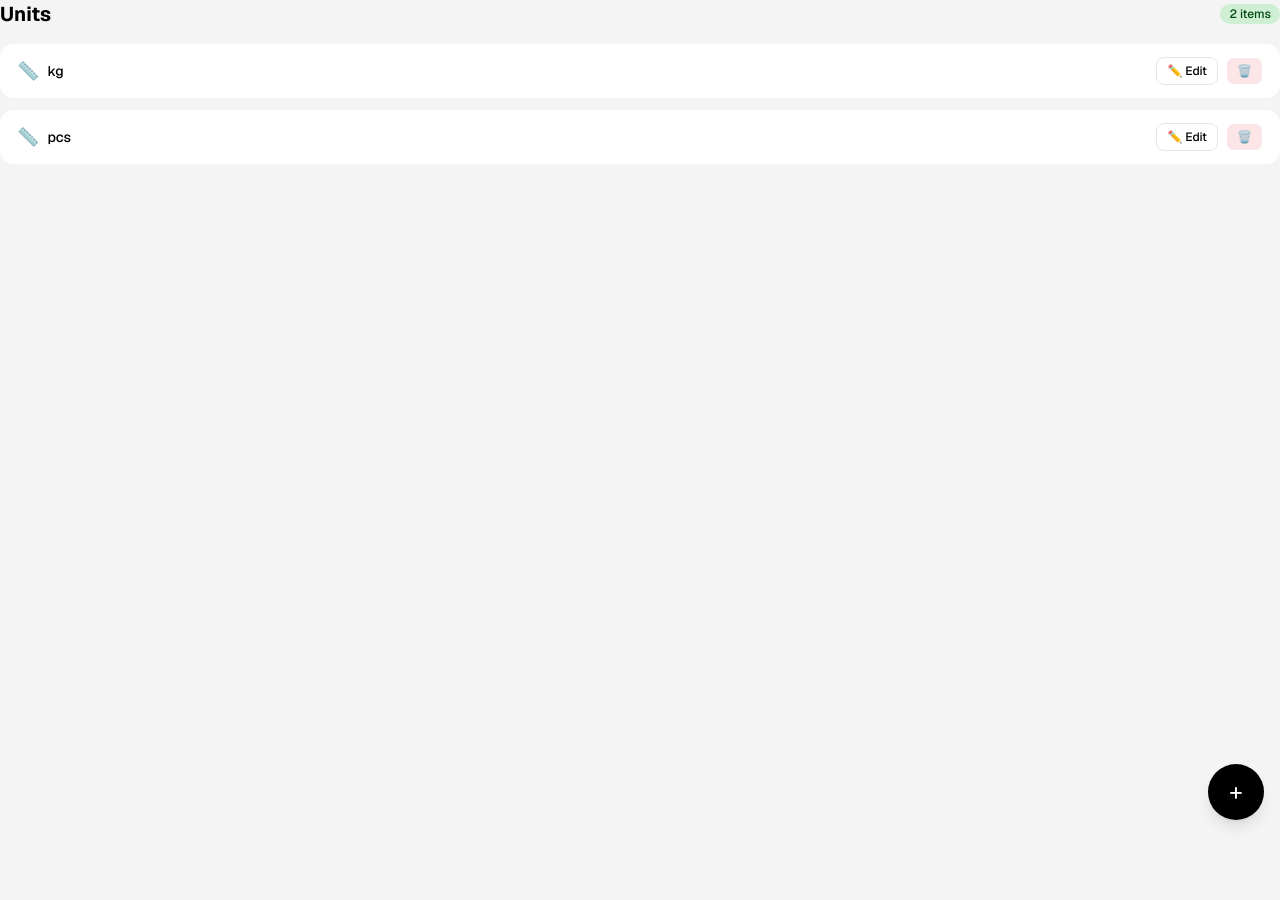
Test: UnitsClient CRUD Operations › Update Operation › opens edit dialog with unit data
This screenshot has width=1280, height=900.
Click the button "✏️ Edit" in the row of "kg" at coordinates (1187, 71), box top-left (1156, 57), bottom-right (1218, 85)
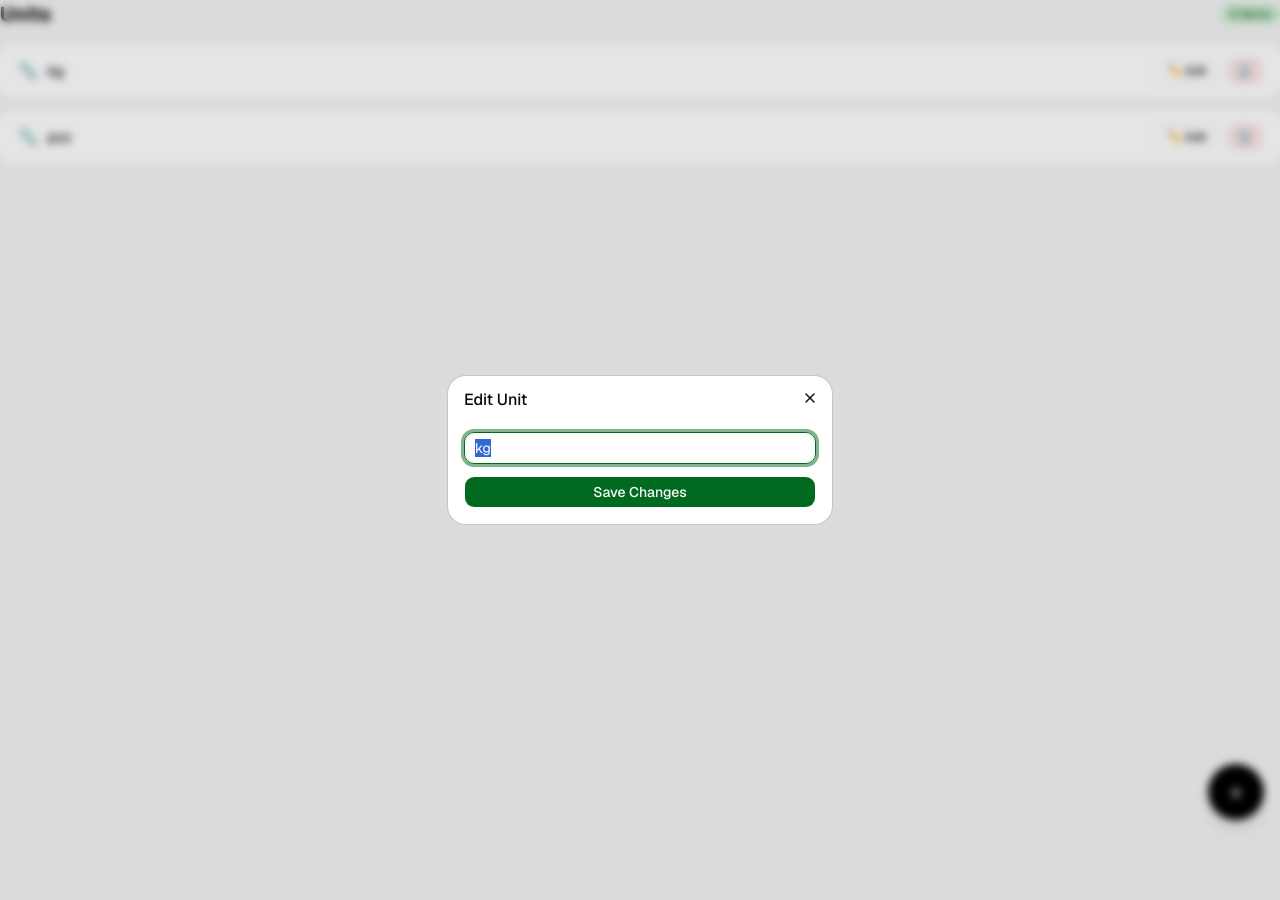
Now the heading "Edit Unit" is shown, box top-left (464, 389), bottom-right (527, 410)
Now the field with placeholder "Unit name (e.g. kg, pcs, bottles)" holds "kg", box top-left (464, 432), bottom-right (816, 464)
